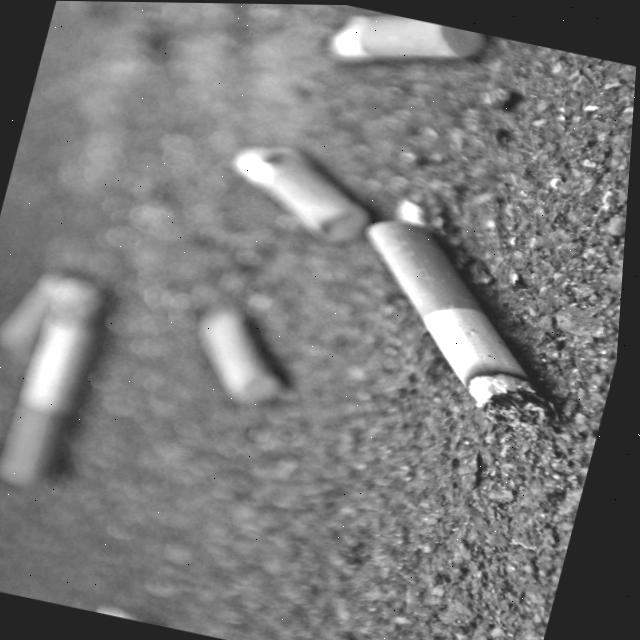cigarette: (358, 219, 554, 423), (0, 276, 109, 488)
